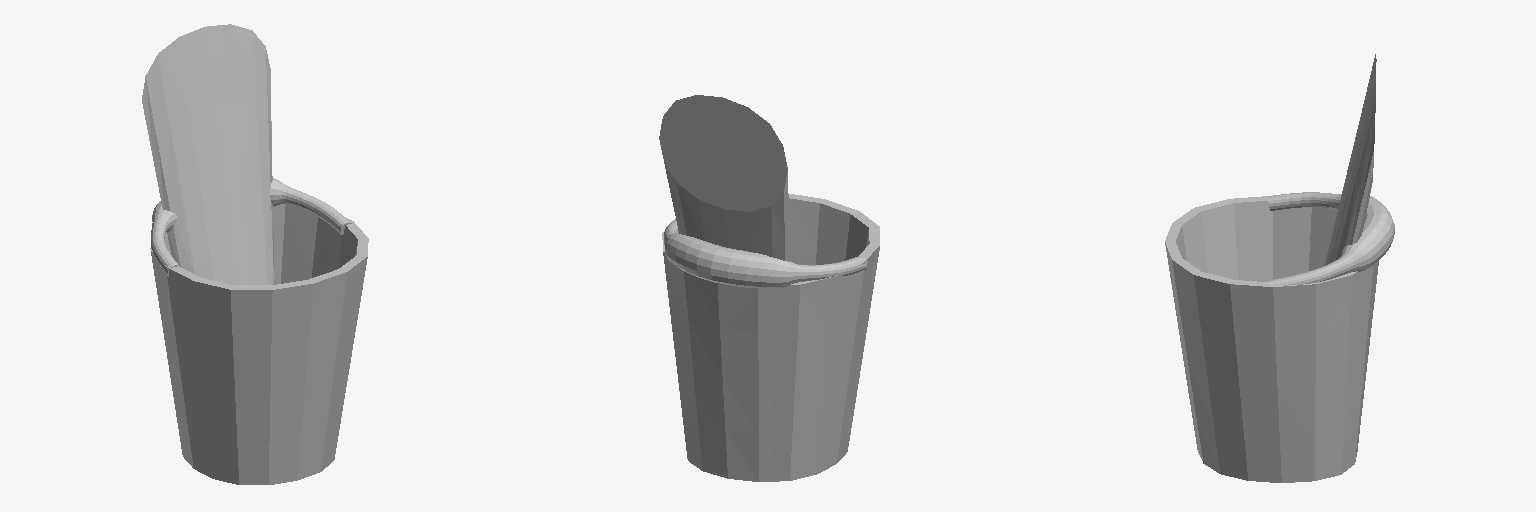
The model's file is bucket-out-water.obj.
3 views of the same model, side by side, from view 1: azimuth 30°, elevation 25°; view 2: azimuth 150°, elevation 25°; view 3: azimuth 270°, elevation 25° (orthographic).
Parts seen in each view (by area): view 1: Bucket.004_Cube.1441; view 2: Bucket.004_Cube.1441; view 3: Bucket.004_Cube.1441.
Part boxes in pixels (bbox=[...]): Bucket.004_Cube.1441: bbox=[142, 24, 368, 484]; Bucket.004_Cube.1441: bbox=[659, 95, 879, 481]; Bucket.004_Cube.1441: bbox=[1165, 54, 1394, 482].
Size of the model in its own units: 1.31 by 2.6 by 1.4.